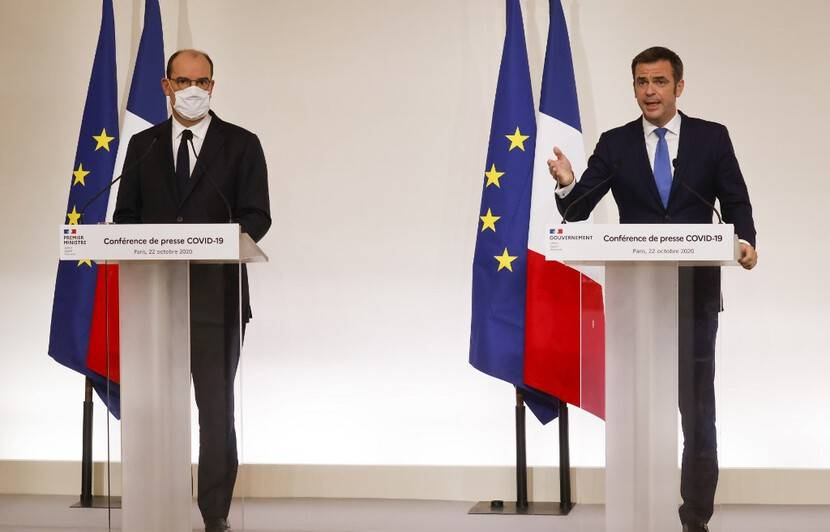with_mask: (172, 73, 210, 116)
without_mask: (635, 73, 676, 116)
